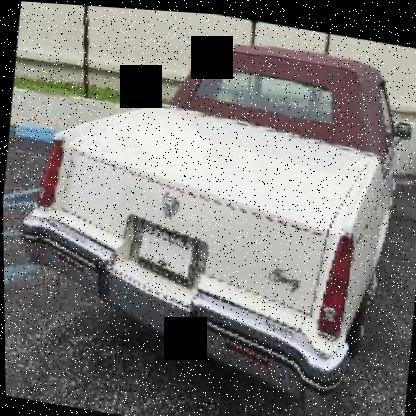not_emergency: (12, 0, 415, 411)
